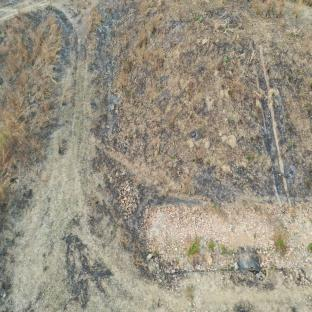rock_toe: (115, 180, 312, 272)
slope_drain: (251, 43, 292, 206)
